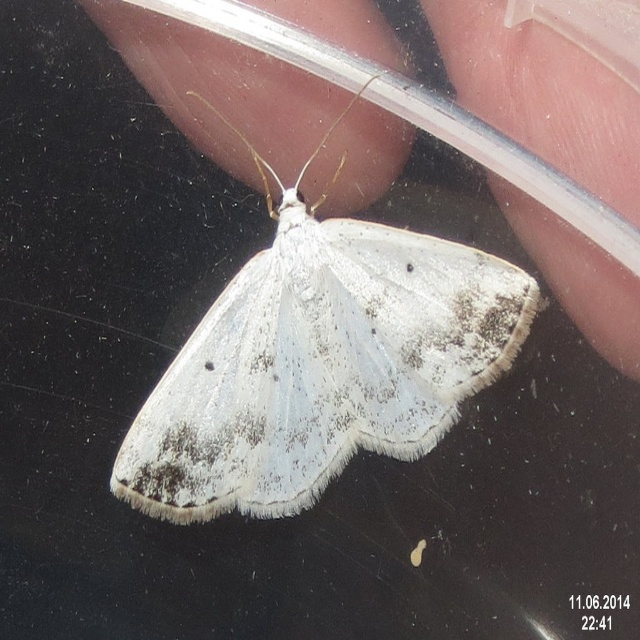Moths and butterflies: (108, 72, 544, 522)
